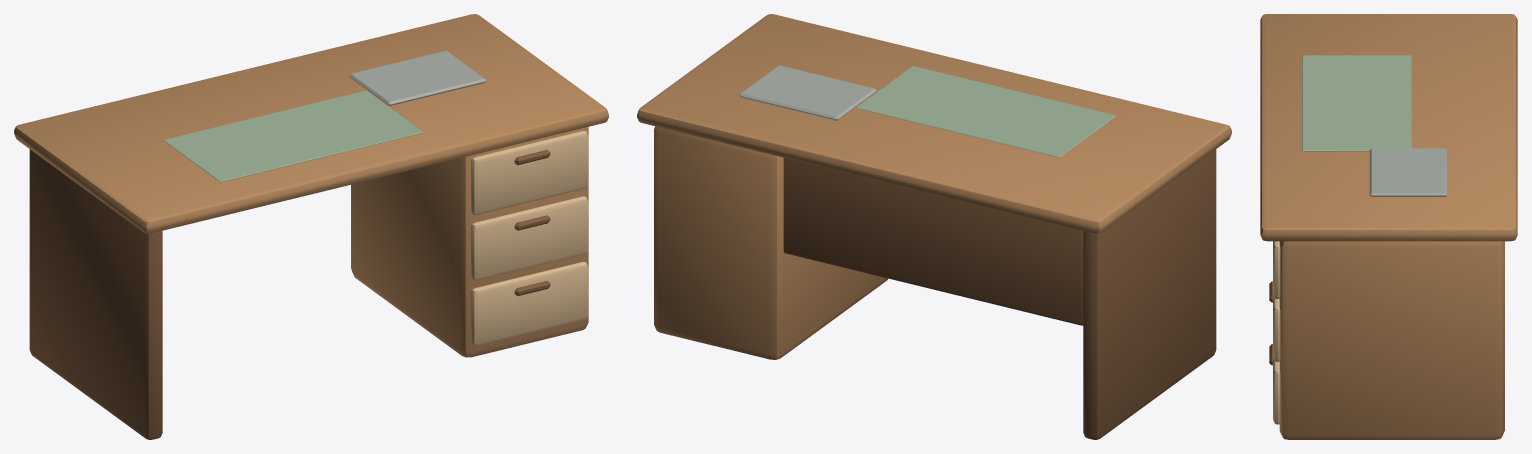
File: desk.glb
3 renders of one model, left to right at view 1: azimuth 30°, elevation 25°; view 2: azimuth 150°, elevation 25°; view 3: azimuth 270°, elevation 25°, orthographic. The views are drawn at different scales.
Parts seen in each view (by area): view 1: FURN-desk; view 2: FURN-desk; view 3: FURN-desk.
Boxes of the visible parts, x1,y1,x2,y2 form: FURN-desk: (14, 14, 608, 439); FURN-desk: (637, 14, 1231, 439); FURN-desk: (1260, 14, 1517, 439).
Size of the model in its own units: 1.6 by 0.764 by 0.8.
